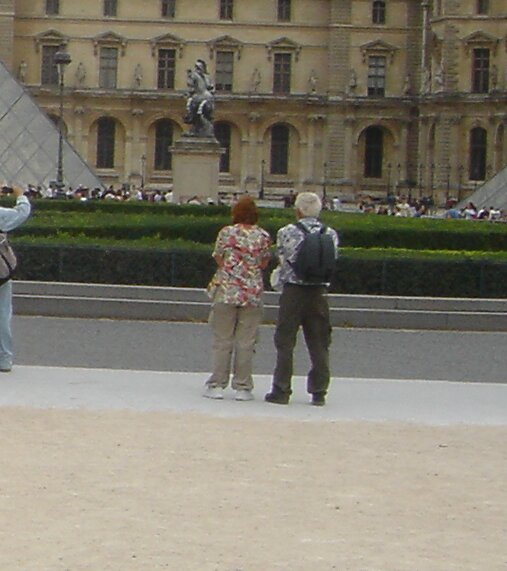person: (196, 190, 274, 406), (266, 190, 338, 410)
